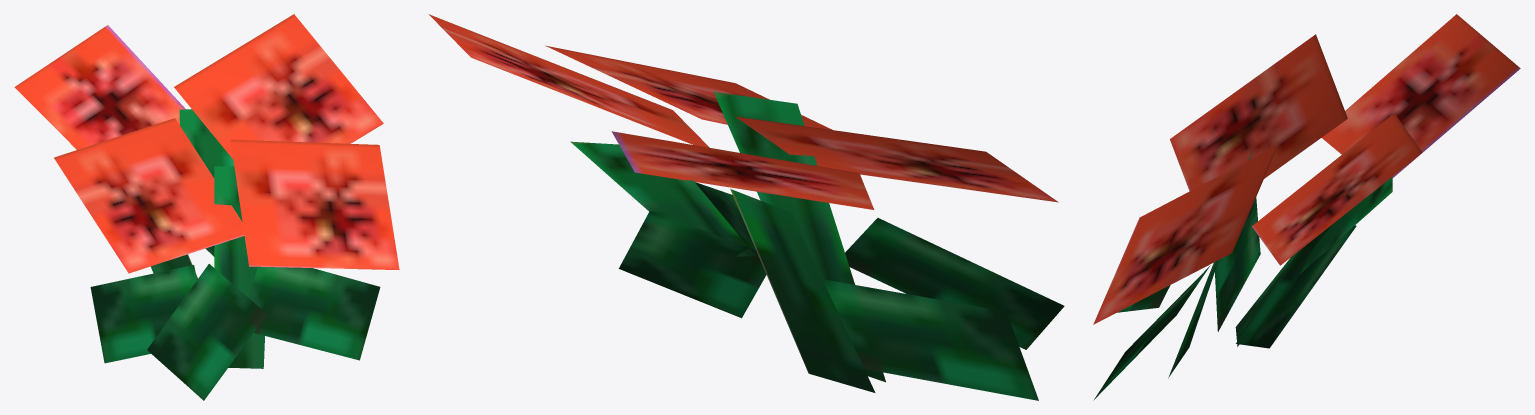
Rendered from flw_yuri_re.dae.
3 views of the same model, side by side, from view 1: azimuth 30°, elevation 25°; view 2: azimuth 150°, elevation 25°; view 3: azimuth 270°, elevation 25° (orthographic). The views are drawn at different scales.
Visible parts, largest first — view 1: flw_yuri_re; view 2: flw_yuri_re; view 3: flw_yuri_re.
Part boxes in pixels (x1,y1,x2,y2): flw_yuri_re: [14, 14, 399, 400]; flw_yuri_re: [428, 14, 1064, 400]; flw_yuri_re: [1093, 14, 1520, 400].
Size of the model in its own units: 31.8 by 23.79 by 30.05.
1 material, 1 textured.
